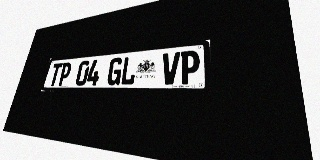0: (74, 60, 91, 86)
4: (86, 59, 102, 86)
G: (106, 57, 124, 85)
L: (120, 56, 138, 85)
P: (179, 50, 200, 84), (57, 62, 72, 86)
T: (48, 63, 63, 86)
V: (160, 52, 180, 85)
